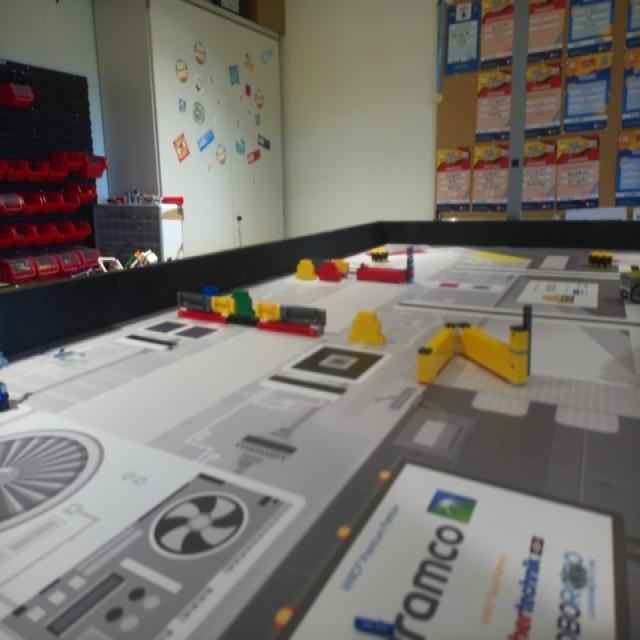blau: (200, 284, 220, 300)
gruen: (228, 288, 255, 320)
rot: (318, 261, 342, 283)
yellow: (347, 311, 386, 348), (295, 258, 316, 282)
